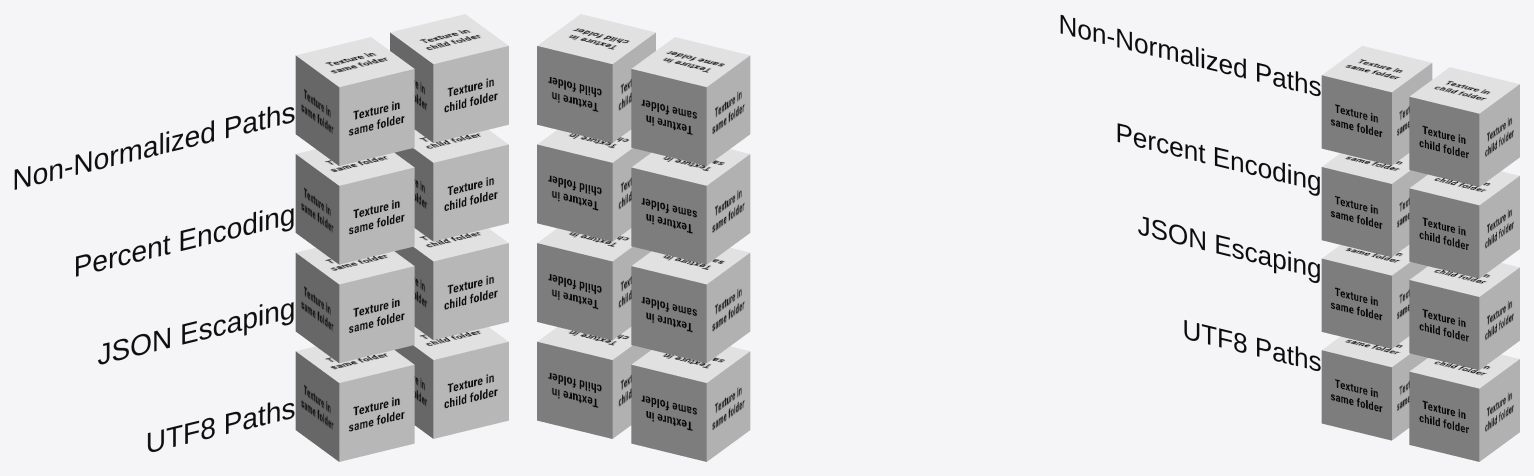
Rendered from RelativeTexturePaths.gltf.
The picture shows the model from 3 angles, left to right: view 1: azimuth 30°, elevation 25°; view 2: azimuth 150°, elevation 25°; view 3: azimuth 330°, elevation 25°; orthographic projection. The views are drawn at different scales.
Visible parts, largest first — view 1: SameFolderAsGltf (×4), SubFolderOfGltf (×4), Text (TMP) (3), Text (TMP) (2), Text (TMP) (1), Text (TMP); view 2: SameFolderAsGltf (×4), SubFolderOfGltf (×4); view 3: SubFolderOfGltf (×4), SameFolderAsGltf (×4), Text (TMP) (3), Text (TMP) (2), Text (TMP) (1), Text (TMP).
Part boxes in pixels (<box>): SameFolderAsGltf (×4): <box>295,37,414,461</box>; SubFolderOfGltf (×4): <box>390,14,508,438</box>; Text (TMP) (3): <box>14,106,294,189</box>; Text (TMP) (2): <box>76,208,293,276</box>; Text (TMP) (1): <box>98,302,293,364</box>; Text (TMP): <box>148,402,294,451</box>; SameFolderAsGltf (×4): <box>631,37,750,461</box>; SubFolderOfGltf (×4): <box>537,14,655,438</box>; SubFolderOfGltf (×4): <box>1409,67,1519,461</box>; SameFolderAsGltf (×4): <box>1321,45,1432,440</box>; Text (TMP) (3): <box>1060,15,1320,95</box>; Text (TMP) (2): <box>1117,123,1319,195</box>; Text (TMP) (1): <box>1138,216,1319,282</box>; Text (TMP): <box>1184,320,1320,370</box>.
Size of the model in its own units: 6.27 by 4.75 by 1.
9 materials, 9 textured.
